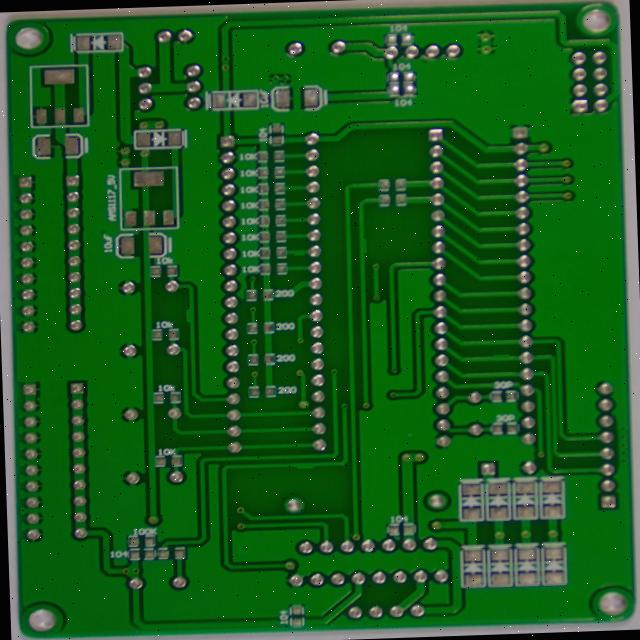spur: (222, 514, 256, 531), (87, 343, 108, 365), (301, 264, 319, 286), (462, 392, 490, 405), (222, 277, 241, 290)
